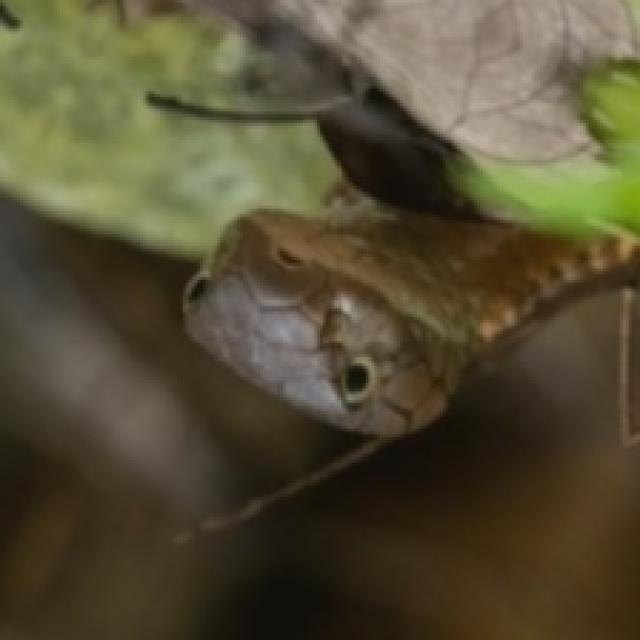king cobra: (186, 185, 640, 437)
